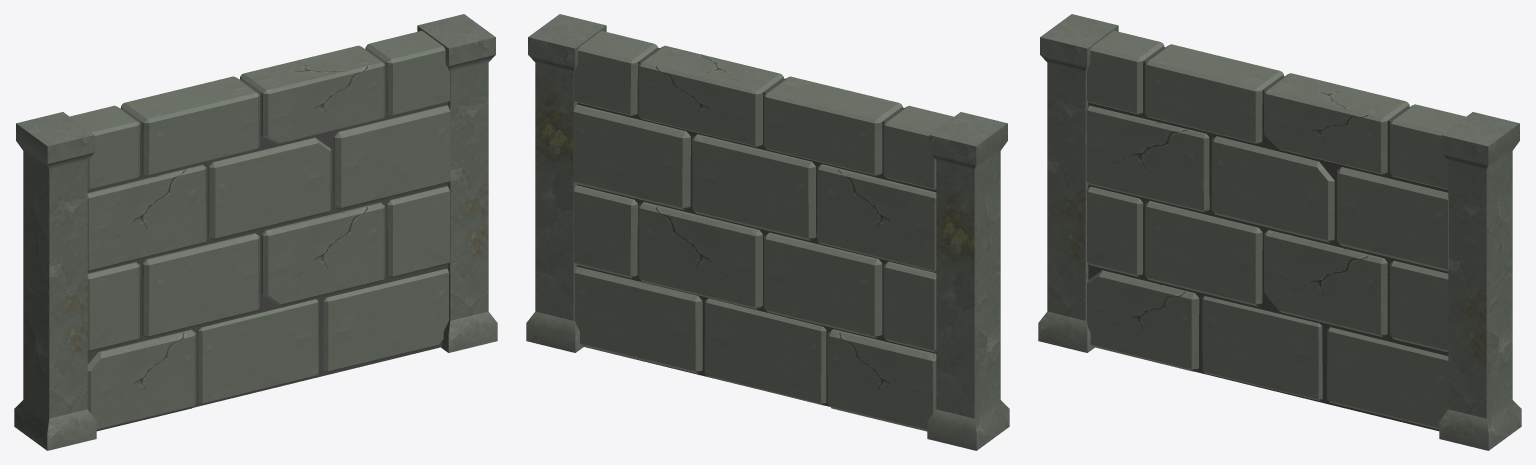
File: FIX_Wall001_2Side_Pillar.fbx
3 views of the same model, side by side, from view 1: azimuth 30°, elevation 25°; view 2: azimuth 150°, elevation 25°; view 3: azimuth 330°, elevation 25° (orthographic).
Parts seen in each view (by area): view 1: Wall_Pillar; view 2: Wall_Pillar; view 3: Wall_Pillar.
Part boxes in pixels (left/top/right/bottom): Wall_Pillar: left=14, top=14, right=497, bottom=450; Wall_Pillar: left=526, top=14, right=1009, bottom=450; Wall_Pillar: left=1038, top=14, right=1521, bottom=450.
Size of the model in its own units: 20.02 by 12.91 by 2.55.
8 materials, 7 textured.
